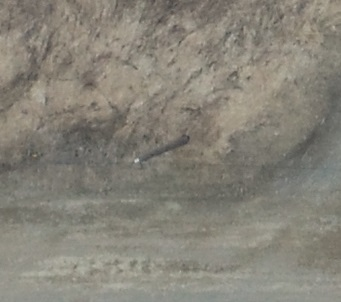opora: (129, 134, 191, 171)
